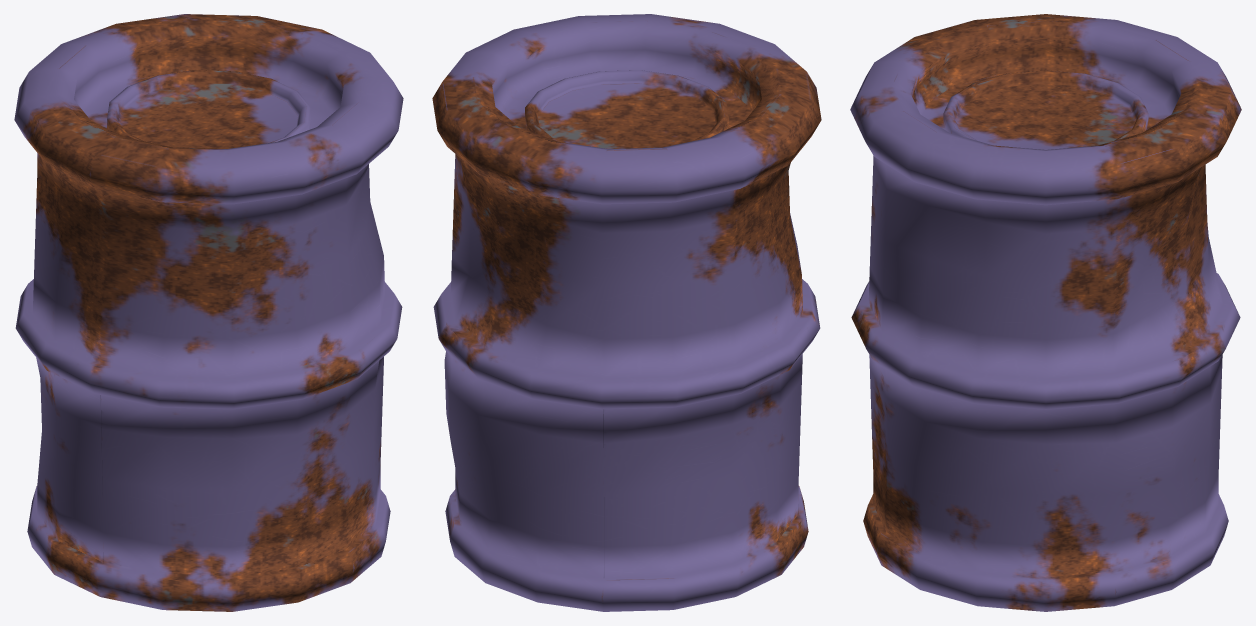
Rendered from Barrel.fbx.
3 renders of one model, left to right at view 1: azimuth 30°, elevation 25°; view 2: azimuth 150°, elevation 25°; view 3: azimuth 270°, elevation 25°, orthographic.
Visible parts, largest first — view 1: Barrel; view 2: Barrel; view 3: Barrel.
Boxes of the visible parts, x1,y1,x2,y2 form: Barrel: [14, 14, 403, 611]; Barrel: [432, 14, 821, 611]; Barrel: [850, 14, 1241, 611].
Size of the model in its own units: 227 by 288 by 227.
Materials: 1 (1 with a texture image).
